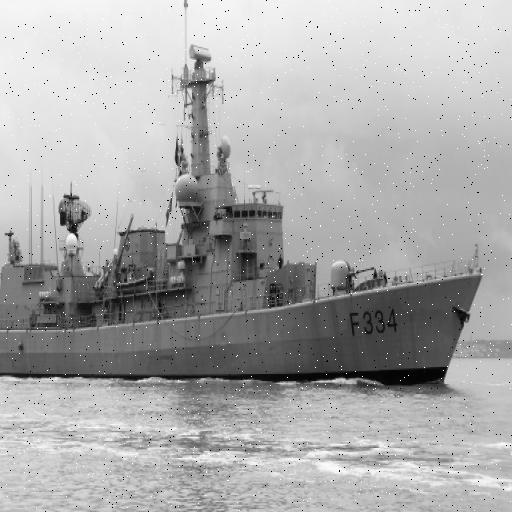Fragata: (1, 37, 486, 395)
